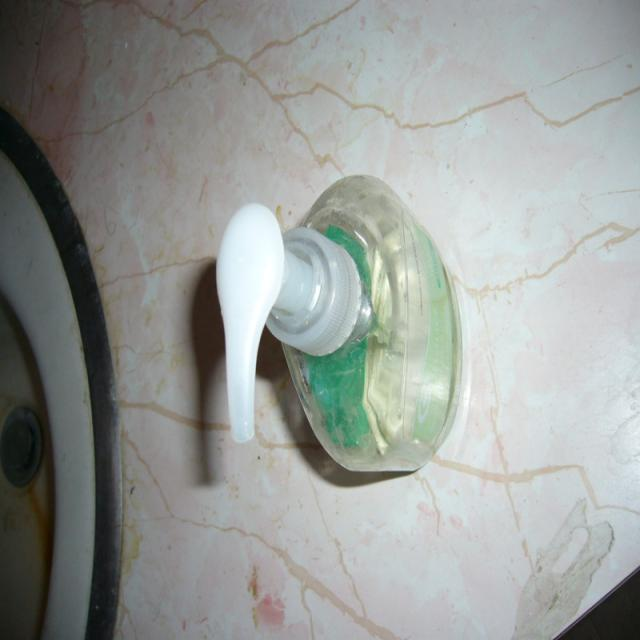container: (214, 178, 478, 482), (218, 176, 460, 470)
